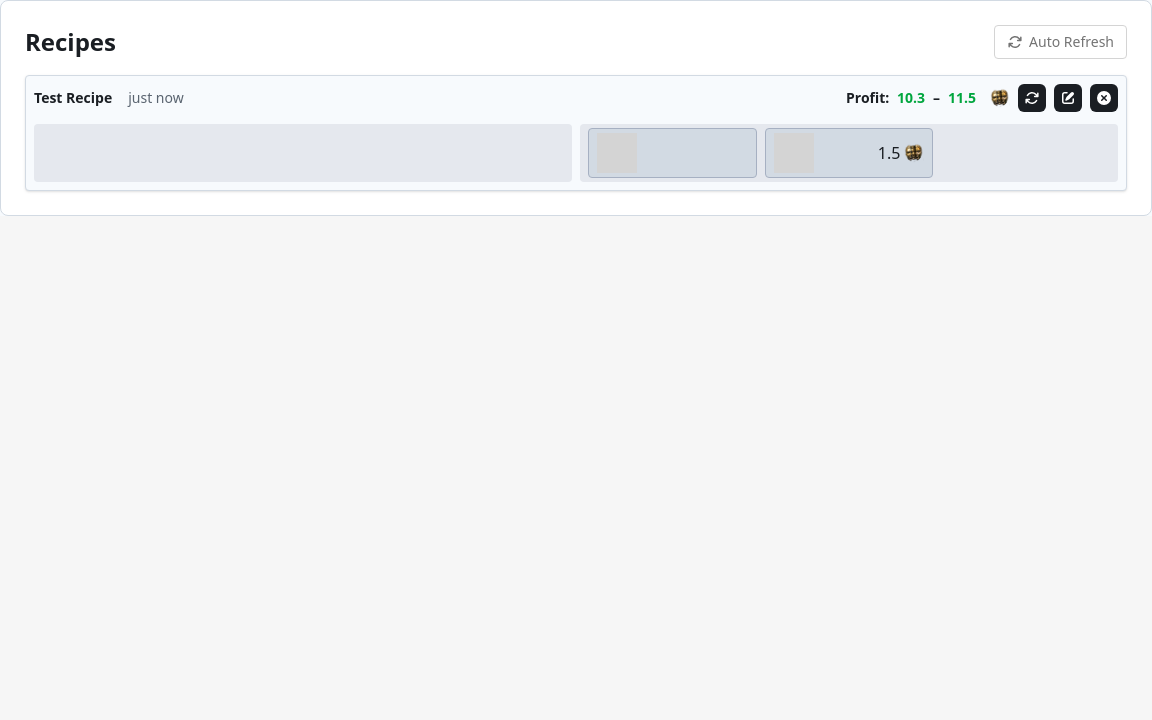
Test: RecipesListPage › displays error message if delete fails
Check: the element with test id "recipe-card-test1" is shown, box x1=25 y1=75 x2=1127 y2=191
Click the button with test id "delete-recipe-test1".
click(1104, 98)  # box x1=1090 y1=84 x2=1118 y2=112
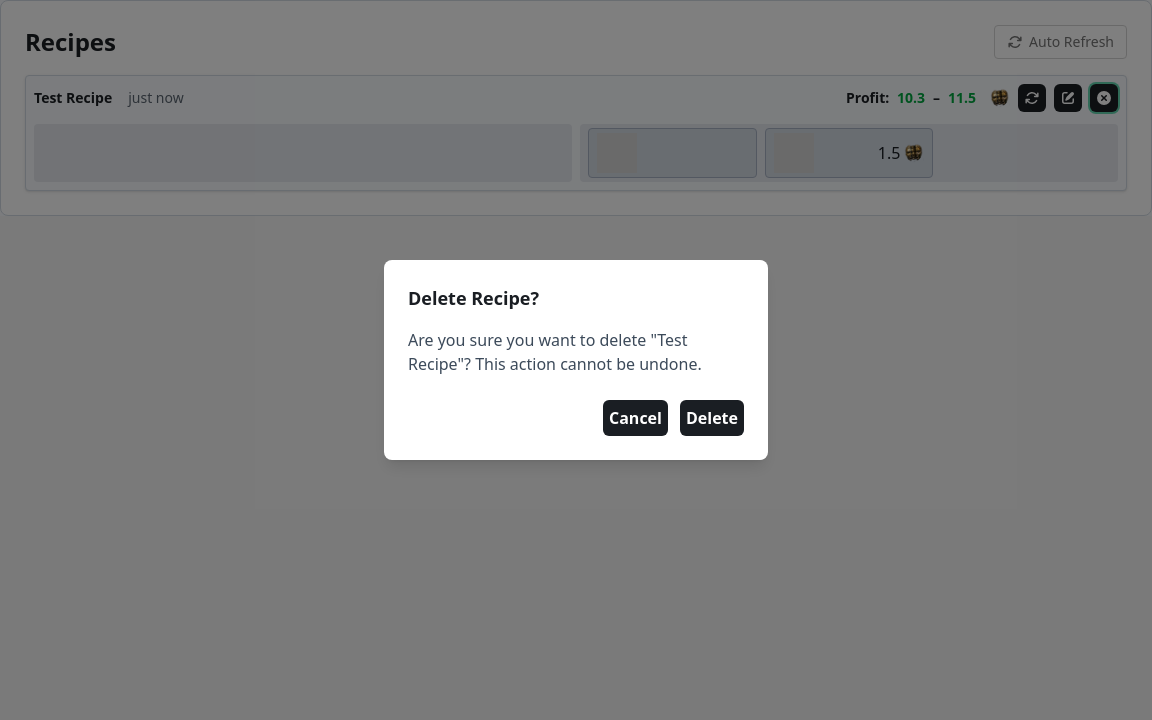
Click the button with test id "delete-modal-confirm-btn".
click(712, 418)  # box x1=680 y1=400 x2=744 y2=436
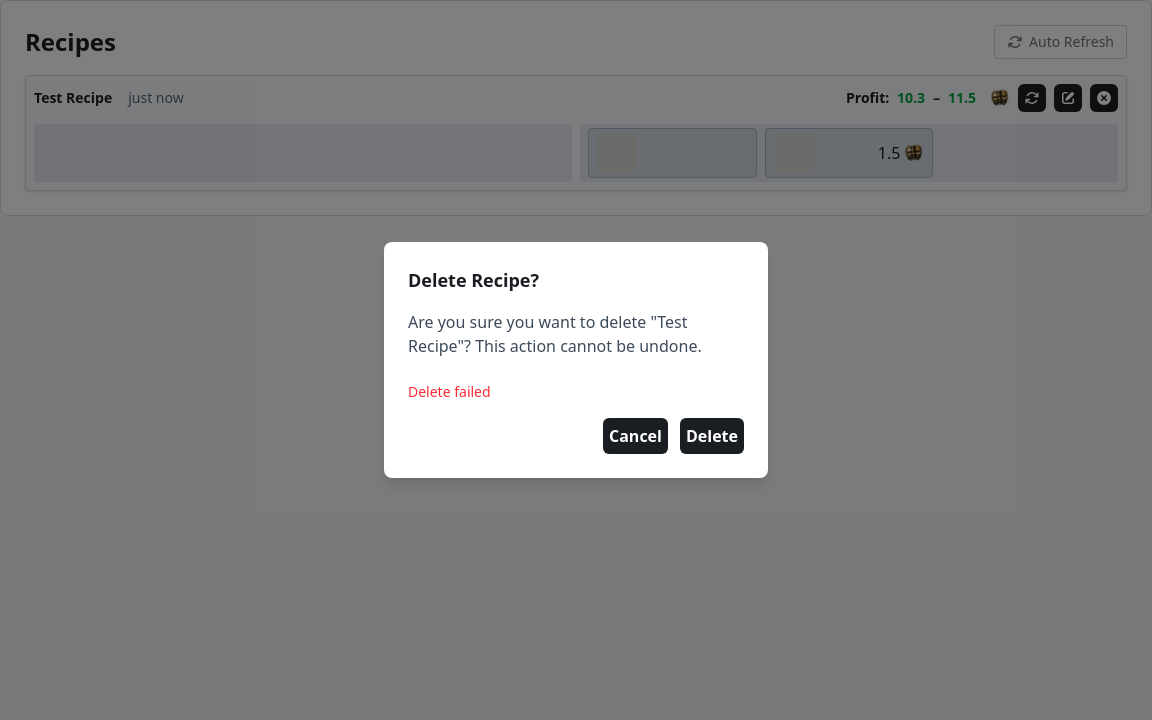
Check: the text "Delete failed" is shown, box x1=408 y1=382 x2=491 y2=401
